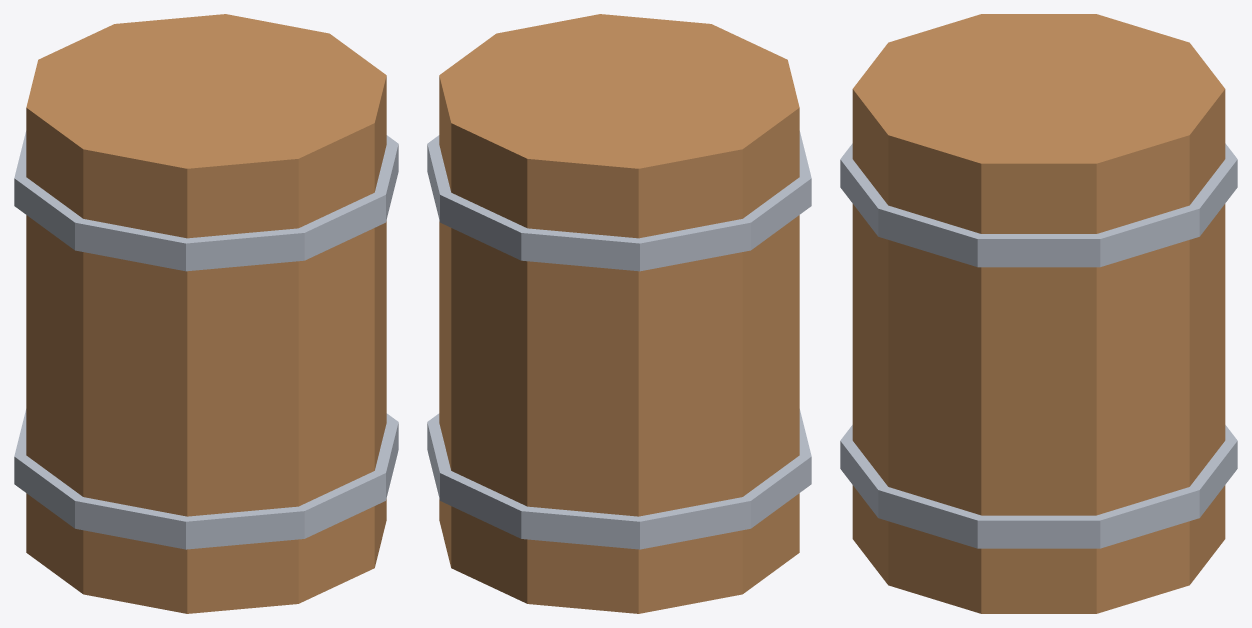
File: Basura_Metal_Barril.fbx
The picture shows the model from 3 angles, left to right: view 1: azimuth 30°, elevation 25°; view 2: azimuth 150°, elevation 25°; view 3: azimuth 270°, elevation 25°; orthographic projection.
Visible parts, largest first — view 1: Basura_Metal_Barril; view 2: Basura_Metal_Barril; view 3: Basura_Metal_Barril.
Boxes of the visible parts, <box> form: Basura_Metal_Barril: <box>14,14,398,613</box>; Basura_Metal_Barril: <box>427,14,811,613</box>; Basura_Metal_Barril: <box>840,14,1237,613</box>.
Bounding box in the file's own units: 1.22 × 1.6 × 1.28.
1 material, 1 textured.
